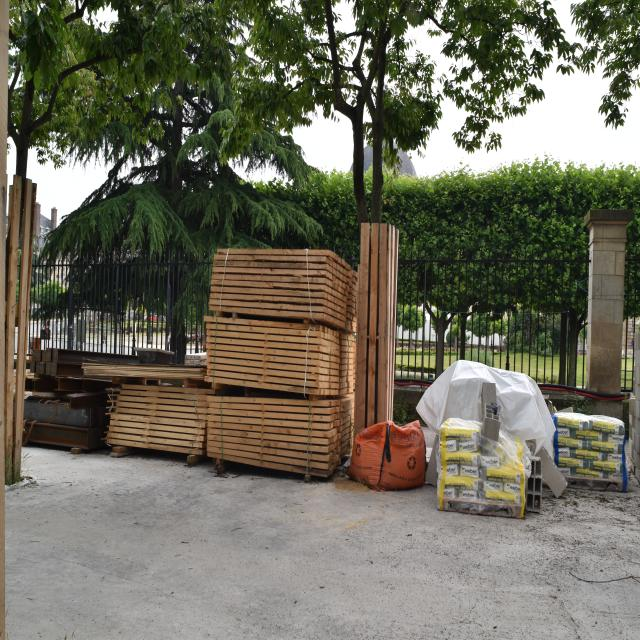entulho: (200, 235, 360, 480), (421, 346, 570, 507), (18, 342, 215, 461), (436, 414, 534, 522), (355, 214, 395, 472), (4, 179, 37, 470), (551, 412, 628, 492)
